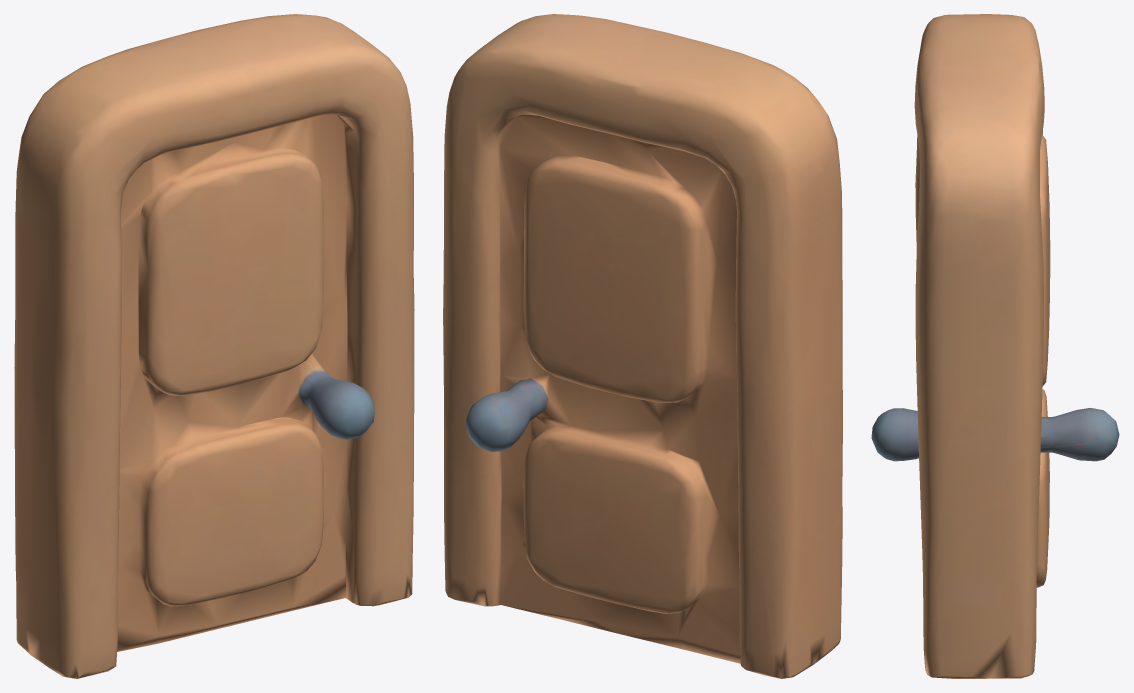
The model's file is living_door.glb.
The picture shows the model from 3 angles, left to right: view 1: azimuth 30°, elevation 25°; view 2: azimuth 150°, elevation 25°; view 3: azimuth 270°, elevation 25°; orthographic projection. The views are drawn at different scales.
Visible parts, largest first — view 1: tripo_node_78564462-b419-4be1-899f-1c064b225822; view 2: tripo_node_78564462-b419-4be1-899f-1c064b225822; view 3: tripo_node_78564462-b419-4be1-899f-1c064b225822.
Boxes of the visible parts, x1,y1,x2,y2 form: tripo_node_78564462-b419-4be1-899f-1c064b225822: [14, 14, 414, 678]; tripo_node_78564462-b419-4be1-899f-1c064b225822: [443, 14, 842, 678]; tripo_node_78564462-b419-4be1-899f-1c064b225822: [871, 14, 1119, 678].
Size of the model in its own units: 1.39 by 2.1 by 0.8762.
1 material, 1 textured.
